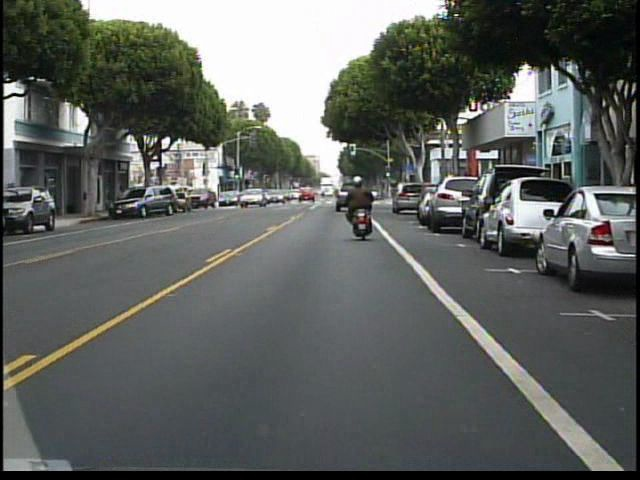person: (339, 170, 376, 238)
